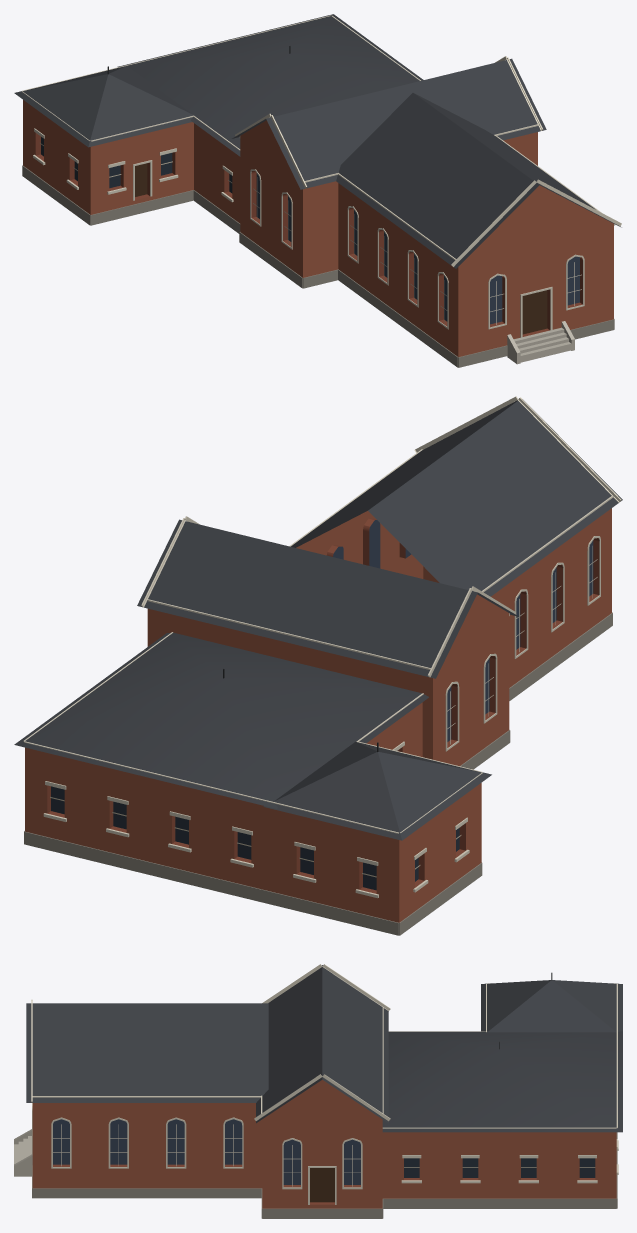
Rendered from ch-gardner-memorial-1961.glb.
3 renders of one model, top to bottom at view 1: azimuth 30°, elevation 25°; view 2: azimuth 150°, elevation 25°; view 3: azimuth 270°, elevation 25°, orthographic. The views are drawn at different scales.
Parts seen in each view (by area): view 1: ch_roof, ch_brick, ch_trim, ch_base, ch_brick2, ch_stain, ch_conc, ch_door, ch_glass; view 2: ch_roof, ch_brick, ch_trim, ch_base, ch_brick2, ch_glass, ch_stain; view 3: ch_roof, ch_brick, ch_base, ch_trim, ch_stain, ch_glass, ch_door, ch_conc, ch_brick2.
Boxes of the visible parts, x1,y1,x2,y2 form: ch_roof: (14,14,621,268); ch_brick: (23,100,613,357); ch_trim: (22,15,621,337); ch_base: (22,165,614,367); ch_brick2: (35,133,582,336); ch_stain: (256,173,579,324); ch_conc: (507,321,574,364); ch_door: (135,163,547,334); ch_glass: (41,137,232,193); ch_roof: (14,399,622,840); ch_brick: (25,508,611,922); ch_trim: (23,396,621,898); ch_base: (24,612,612,935); ch_brick2: (47,518,599,893); ch_glass: (51,786,459,890); ch_stain: (333,520,593,741); ch_roof: (26,965,622,1132); ch_brick: (32,1080,616,1208); ch_base: (32,1132,617,1218); ch_trim: (31,964,618,1204); ch_stain: (53,1119,360,1184); ch_glass: (404,1158,595,1177); ch_door: (310,1168,334,1202); ch_conc: (14,1129,32,1176); ch_brick2: (53,1164,595,1204).
Bounding box in the file's own units: 24.1 × 11.51 × 39.
